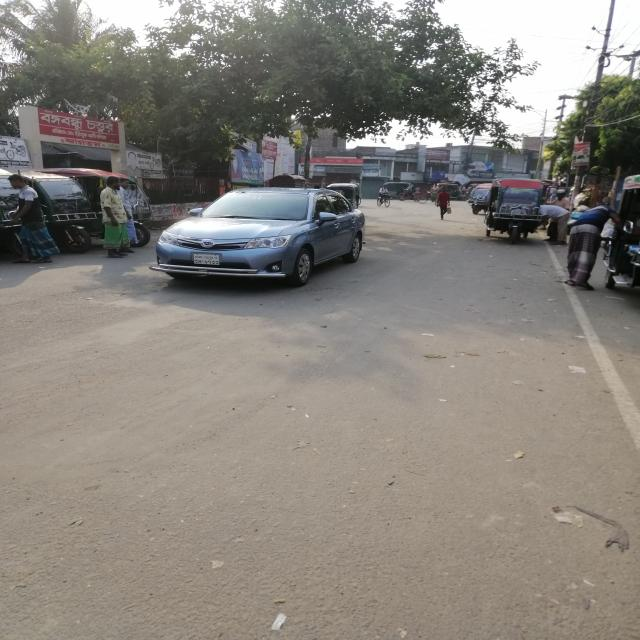Car: (148, 180, 379, 289)
